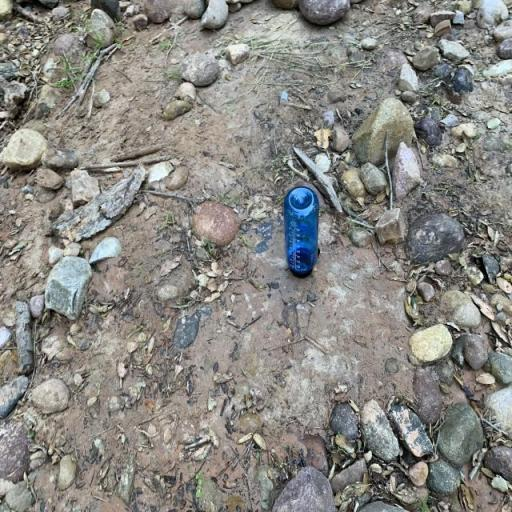bottle: (283, 186, 320, 279)
